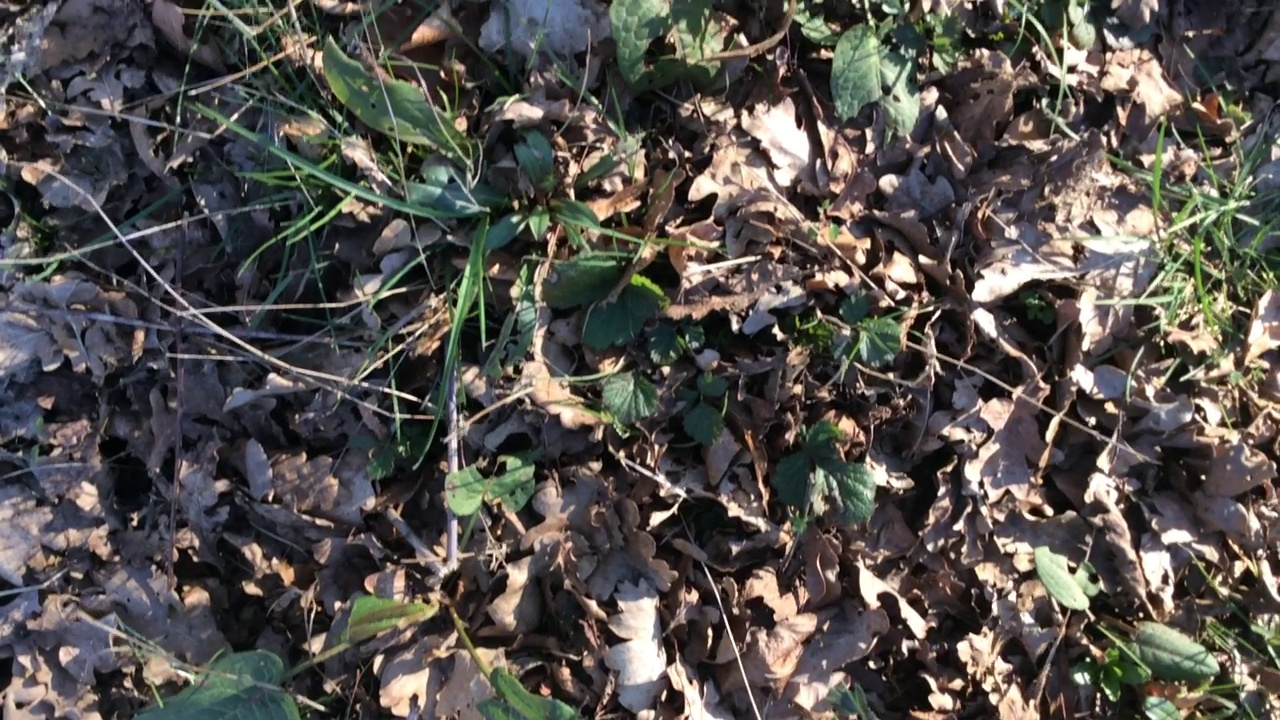rumex: (136, 449, 582, 720)
